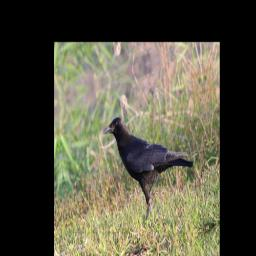Crow: (101, 87, 199, 238)
